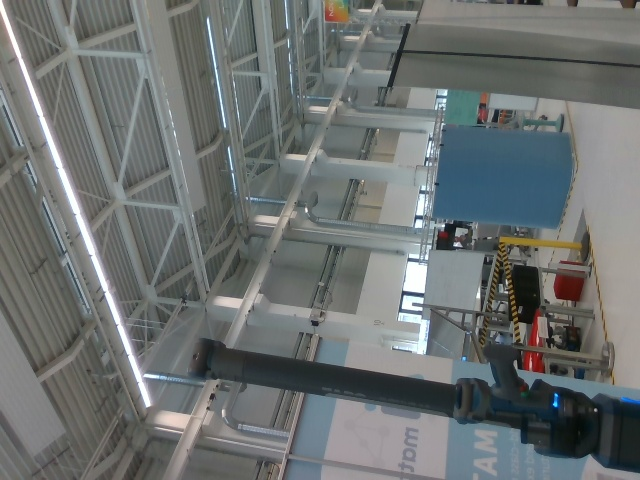Robot arm: (187, 338, 639, 474)
